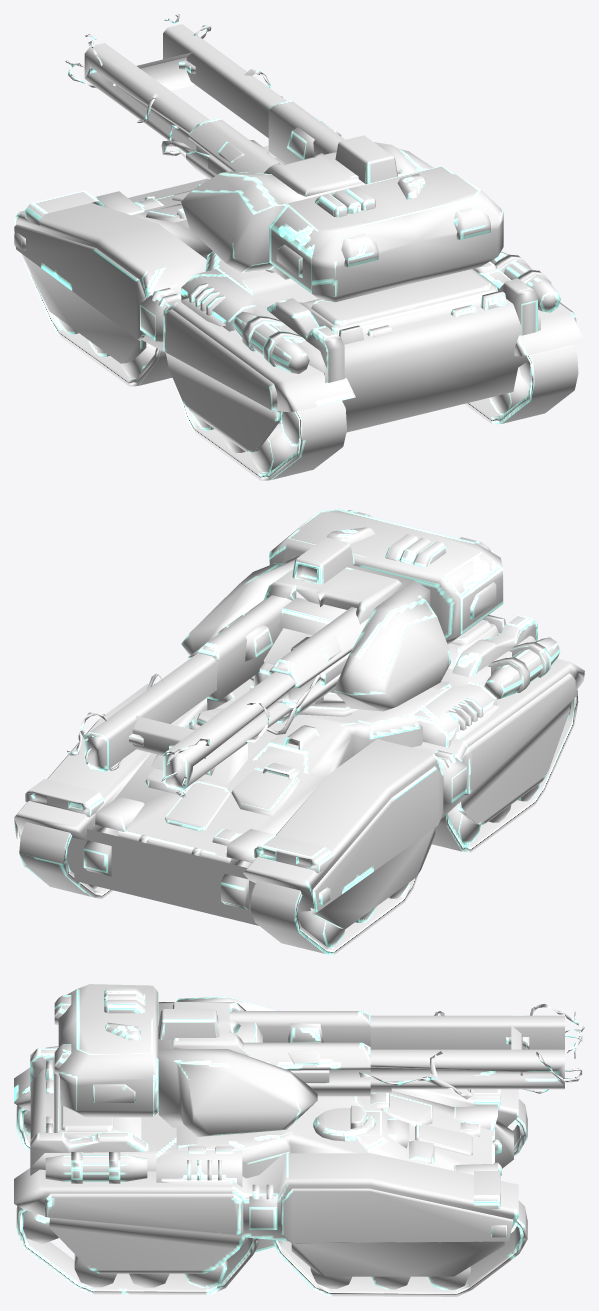
The model's file is char_v3.glb.
The picture shows the model from 3 angles, top to bottom: view 1: azimuth 30°, elevation 25°; view 2: azimuth 150°, elevation 25°; view 3: azimuth 270°, elevation 25°; orthographic projection. The views are drawn at different scales.
Parts seen in each view (by area): view 1: char_v3; view 2: char_v3; view 3: char_v3.
Part boxes in pixels (x1=…): char_v3: x1=14, y1=14, x2=584, y2=480; char_v3: x1=14, y1=509, x2=584, y2=955; char_v3: x1=14, y1=984, x2=584, y2=1296.
Size of the model in its own units: 1.47 by 1.16 by 2.6.
Materials: 1 (1 with a texture image).
